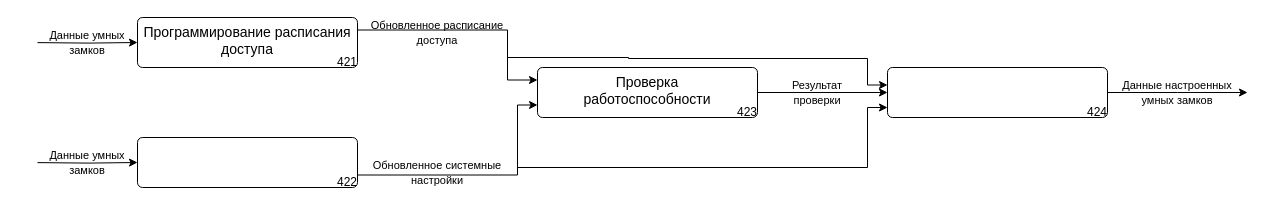
The diagram is 1273 pixels wide and 215 high, and some of its shapes have lost their labels. Here are the shapes that lost their labels. From the top down, the box of each, then its label:
(886, 66, 1108, 118): Взаимодействие с умными замками
(136, 136, 358, 188): Программирование системных настроек
